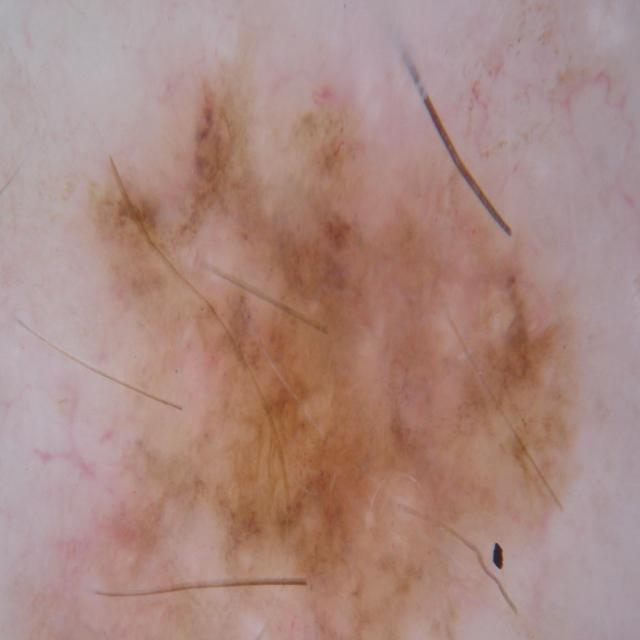Melanoma: (26, 74, 633, 640)
